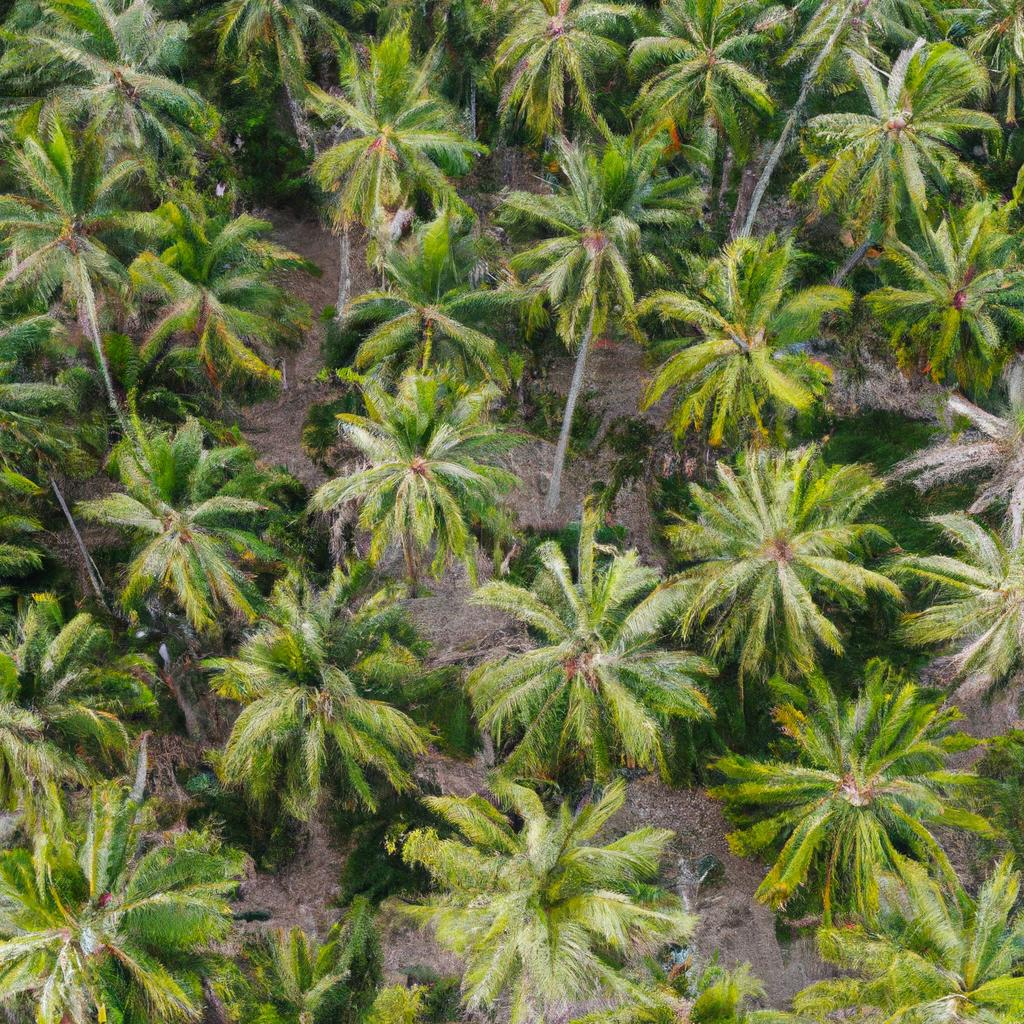coconut_tree: (451, 528, 716, 775), (720, 694, 986, 918), (424, 791, 680, 1001), (0, 802, 243, 1023), (659, 432, 889, 656), (93, 408, 299, 624), (229, 596, 426, 804), (296, 375, 524, 553), (653, 240, 856, 428), (794, 50, 1002, 223), (508, 161, 702, 328), (299, 64, 501, 224), (5, 129, 170, 324), (342, 237, 518, 383), (634, 4, 778, 121), (501, 1, 635, 124)
